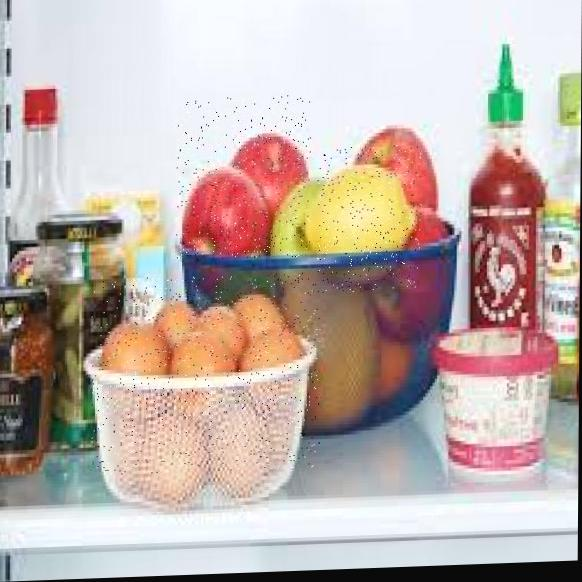apples: (176, 95, 311, 261)
eggs: (90, 271, 321, 475)
lemon: (317, 144, 422, 293)
